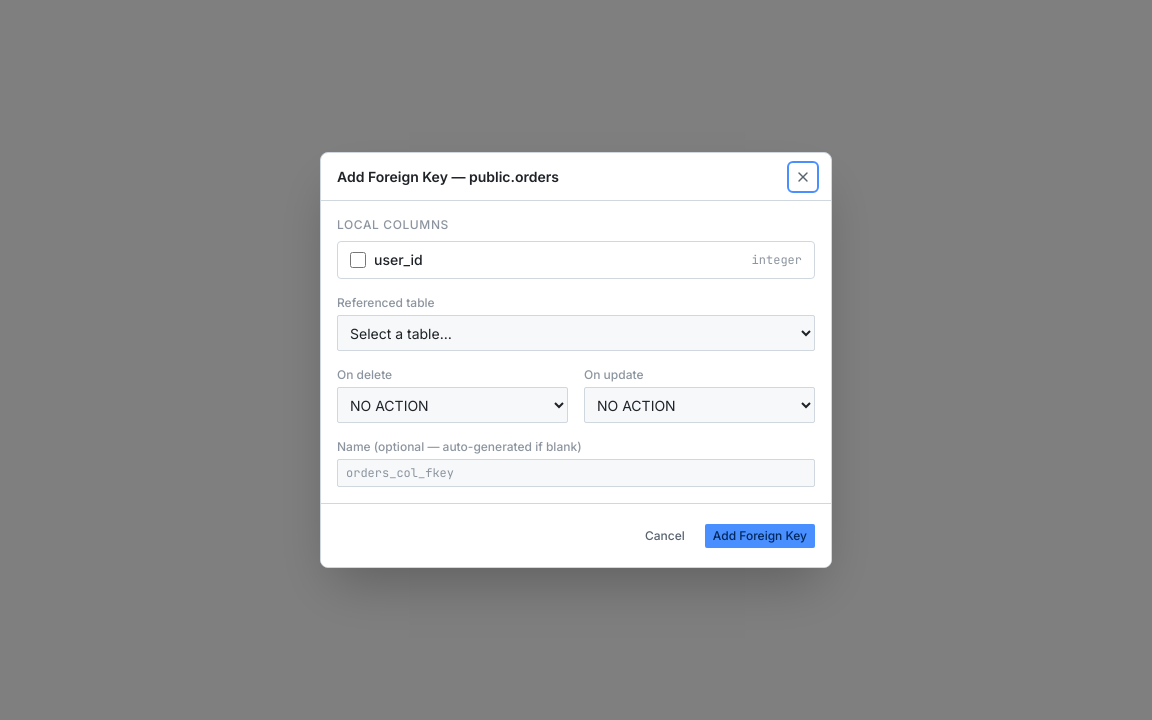
Test: AddForeignKeyModal › does not submit until local + referenced columns are chosen with matching counts
Click the button "Add Foreign Key". click: (760, 536)
box: [705,524,815,548]
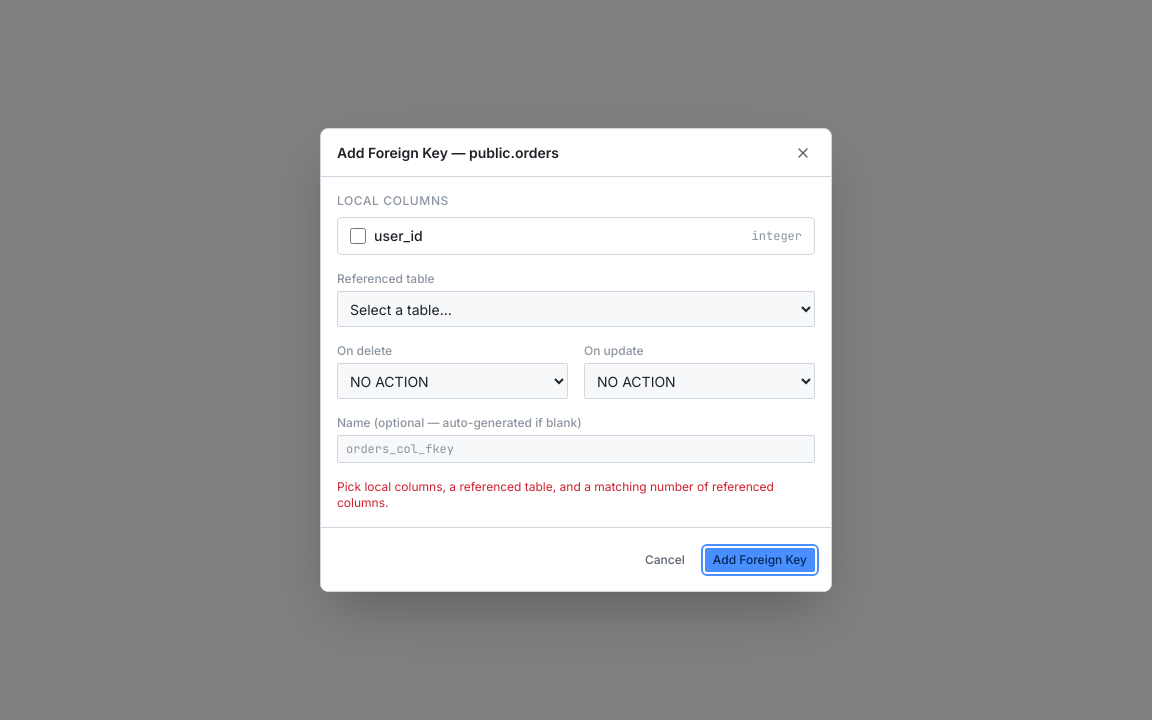
expect the message is shown: met, box [337,479,815,511]
